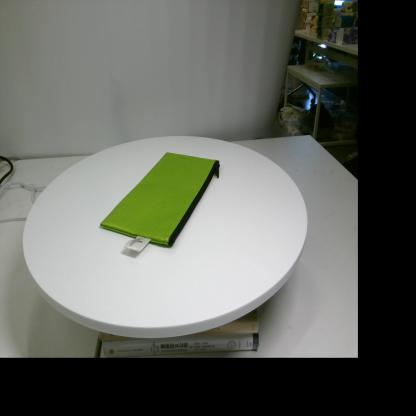Stationery: (100, 152, 220, 252)
